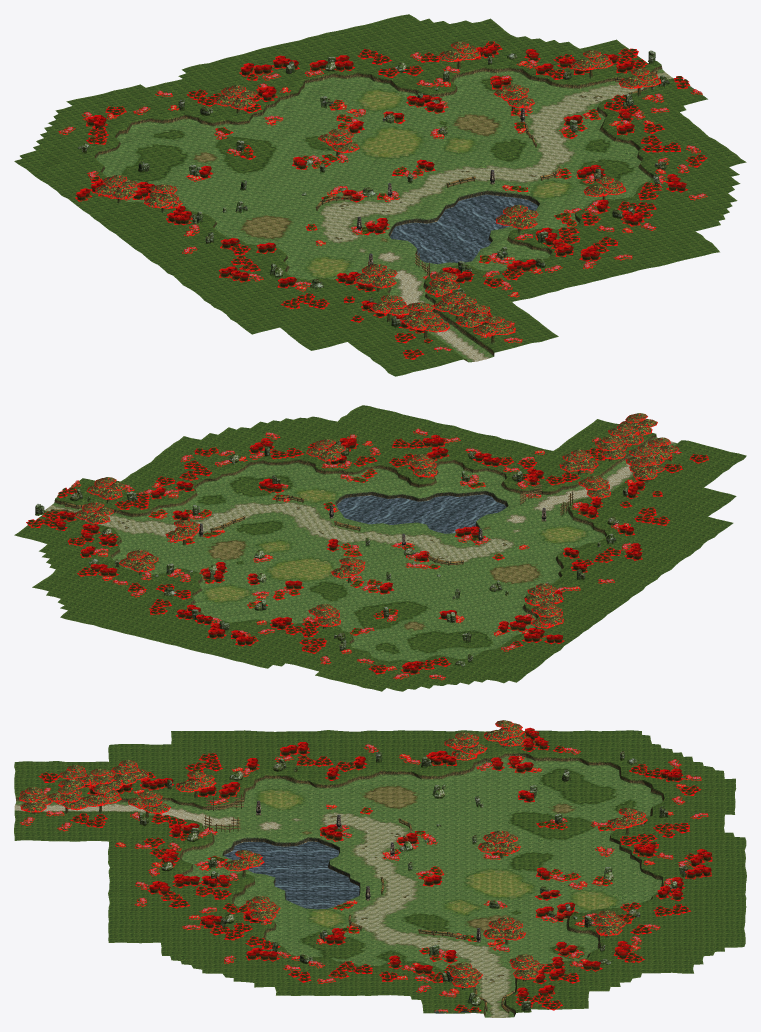
The model's file is TrattPlainsRoad2.obj.
The picture shows the model from 3 angles, top to bottom: view 1: azimuth 30°, elevation 25°; view 2: azimuth 150°, elevation 25°; view 3: azimuth 270°, elevation 25°; orthographic projection. The views are drawn at different scales.
Parts seen in each view (by area): view 1: Object.006; view 2: Object.006; view 3: Object.006.
Boxes of the visible parts, bbox=[...] form: Object.006: bbox=[14, 14, 746, 376]; Object.006: bbox=[14, 405, 746, 691]; Object.006: bbox=[14, 720, 746, 1017].
Bounding box in the file's own units: 128 × 9.17 × 140.
20 materials, 20 textured.
